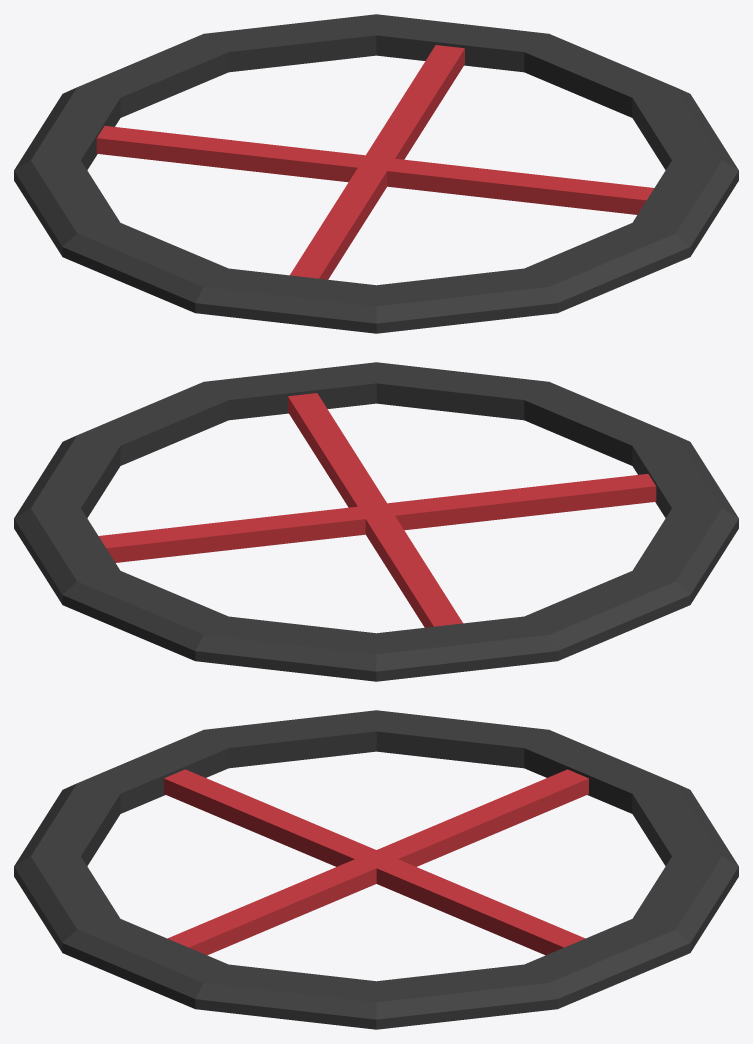
Rendered from FireBase.fbx.
3 renders of one model, top to bottom at view 1: azimuth 30°, elevation 25°; view 2: azimuth 150°, elevation 25°; view 3: azimuth 270°, elevation 25°, orthographic.
Visible parts, largest first — view 1: Fire - Stand.001; view 2: Fire - Stand.001; view 3: Fire - Stand.001.
Boxes of the visible parts, bbox=[...] form: Fire - Stand.001: bbox=[14, 14, 738, 333]; Fire - Stand.001: bbox=[14, 362, 738, 681]; Fire - Stand.001: bbox=[14, 710, 738, 1029].
Bounding box in the file's own units: 783 × 24.08 × 783.
